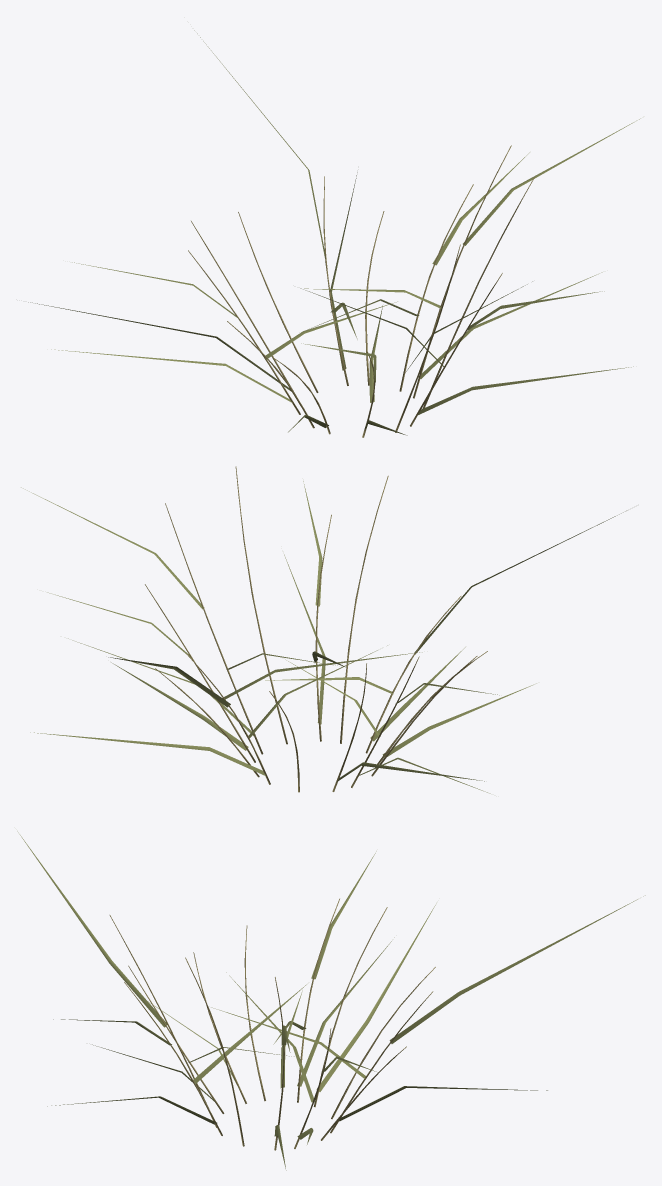
File: Herbes_0_Niveau1.fbx
3 renders of one model, top to bottom at view 1: azimuth 30°, elevation 25°; view 2: azimuth 150°, elevation 25°; view 3: azimuth 270°, elevation 25°, orthographic. The views are drawn at different scales.
Visible parts, largest first — view 1: Herbes_0_Niveau1; view 2: Herbes_0_Niveau1; view 3: Herbes_0_Niveau1.
Part boxes in pixels (x1,y1,x2,y2): Herbes_0_Niveau1: (28, 30, 640, 437); Herbes_0_Niveau1: (21, 466, 627, 793); Herbes_0_Niveau1: (17, 831, 645, 1170).
Size of the model in its own units: 68.21 by 29.42 by 70.66.
